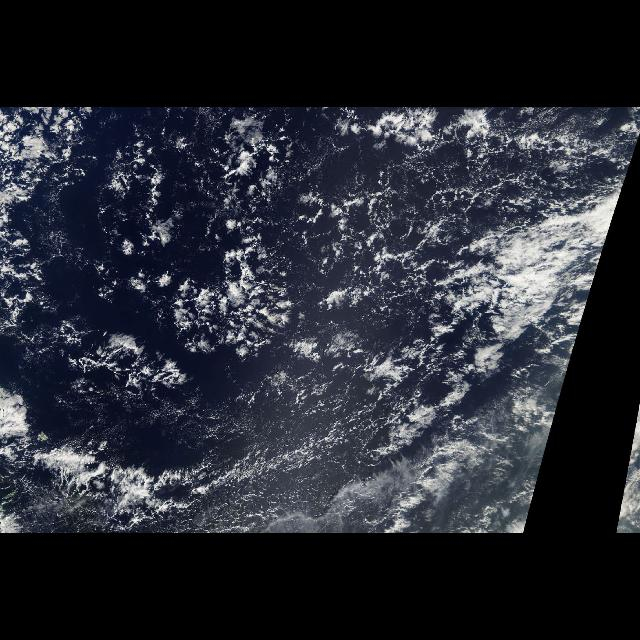Gravel: (4, 110, 632, 530), (616, 439, 632, 528)
Sugar: (154, 411, 420, 531)
